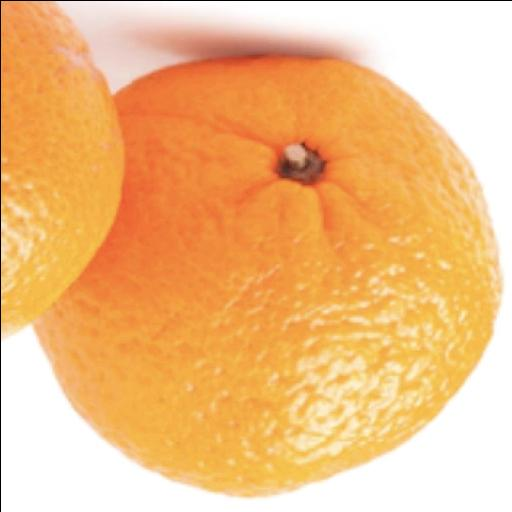orange: (35, 56, 500, 495), (1, 1, 120, 334)
